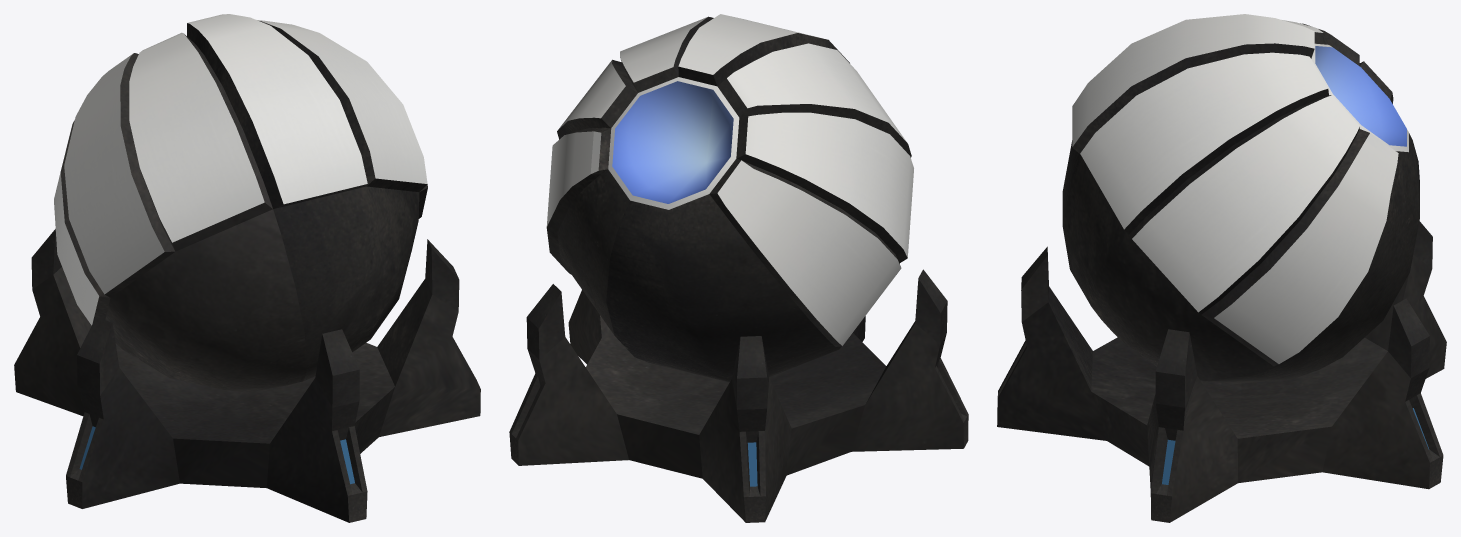
File: slow03.fbx
3 renders of one model, left to right at view 1: azimuth 30°, elevation 25°; view 2: azimuth 150°, elevation 25°; view 3: azimuth 270°, elevation 25°, orthographic.
Parts seen in each view (by area): view 1: pSphere6, polySurface94; view 2: pSphere6, polySurface94; view 3: pSphere6, polySurface94.
Part boxes in pixels (x1,y1,x2,y2): pSphere6: [54, 14, 427, 392]; polySurface94: [14, 229, 480, 522]; pSphere6: [546, 14, 913, 382]; polySurface94: [509, 269, 968, 522]; pSphere6: [1062, 14, 1419, 383]; polySurface94: [997, 221, 1446, 522].
Bounding box in the file's own units: 19.8 × 18.42 × 18.95.
